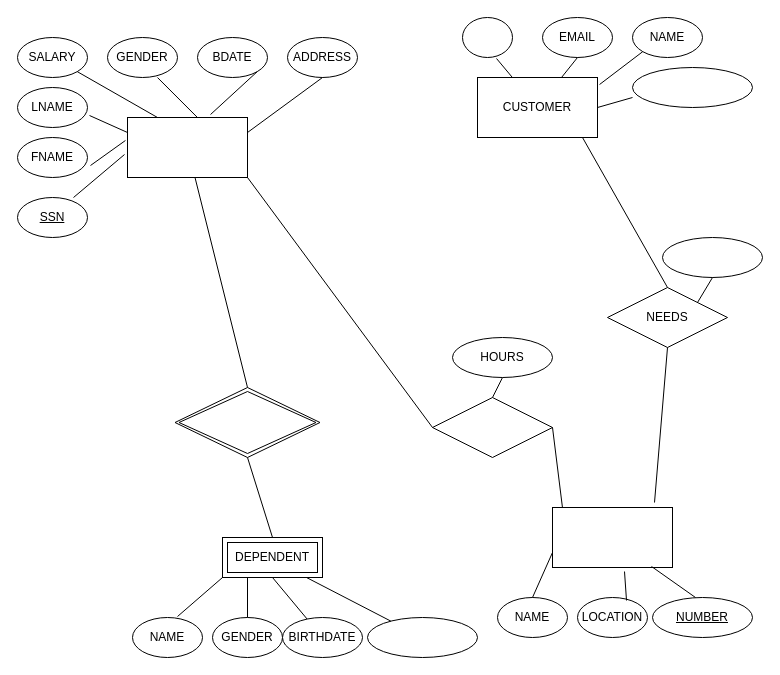
Some shapes in this 780 by 675 pixel diagram are drawn without their labels. Each missing label, with the box of its shape:
DEADLINE: (662, 236, 762, 278)
DEPENDENTS OF: (174, 386, 320, 458)
EMPLOYEE: (126, 116, 248, 178)
ID: (462, 16, 512, 58)
PHONE NUMBER: (632, 66, 752, 108)
PROJECT: (552, 506, 672, 568)
RELATIONSHIP: (366, 616, 478, 658)
WORKS ON: (432, 396, 552, 458)
